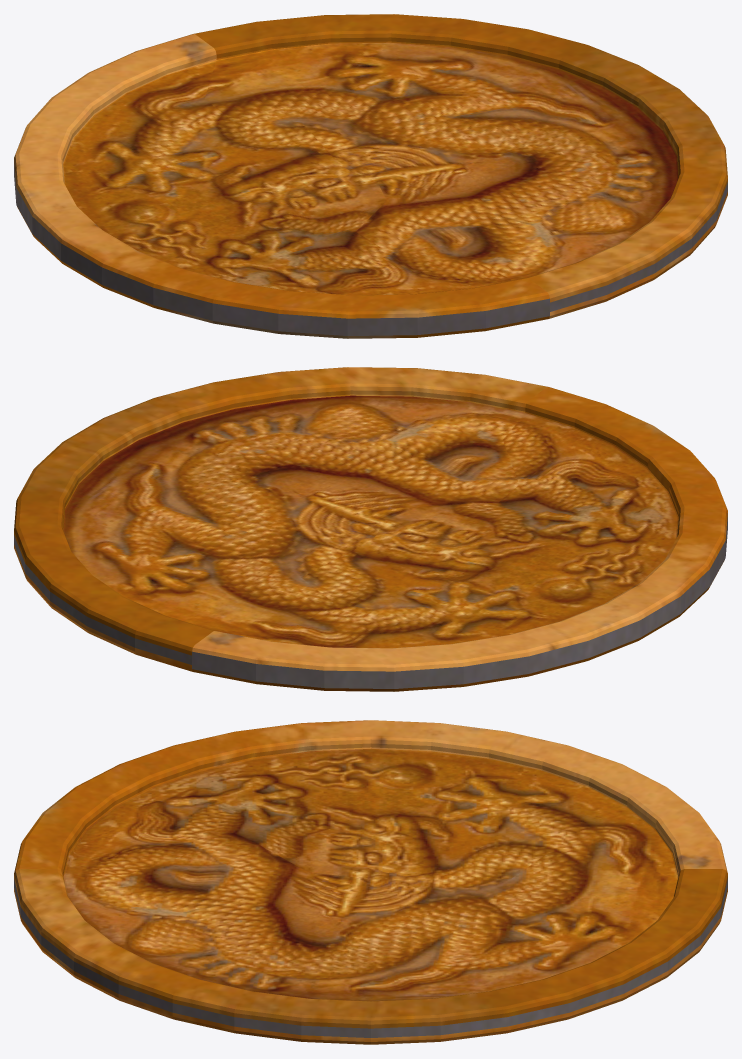
File: 2024_SXR_Mdl_GlazedDragonPlate_v2.fbx
3 renders of one model, top to bottom at view 1: azimuth 30°, elevation 25°; view 2: azimuth 150°, elevation 25°; view 3: azimuth 270°, elevation 25°, orthographic.
Parts seen in each view (by area): view 1: GlazedDragonPlate_Right, GlazedDragonPlate_Left; view 2: GlazedDragonPlate_Right, GlazedDragonPlate_Left; view 3: GlazedDragonPlate_Right, GlazedDragonPlate_Left.
Part boxes in pixels (x1,y1,x2,y2): GlazedDragonPlate_Right: [194, 14, 727, 318]; GlazedDragonPlate_Left: [14, 34, 549, 338]; GlazedDragonPlate_Right: [14, 367, 547, 671]; GlazedDragonPlate_Left: [192, 387, 727, 691]; GlazedDragonPlate_Right: [14, 844, 727, 1044]; GlazedDragonPlate_Left: [14, 720, 727, 879].
Size of the model in its own units: 60 by 2.5 by 60.
